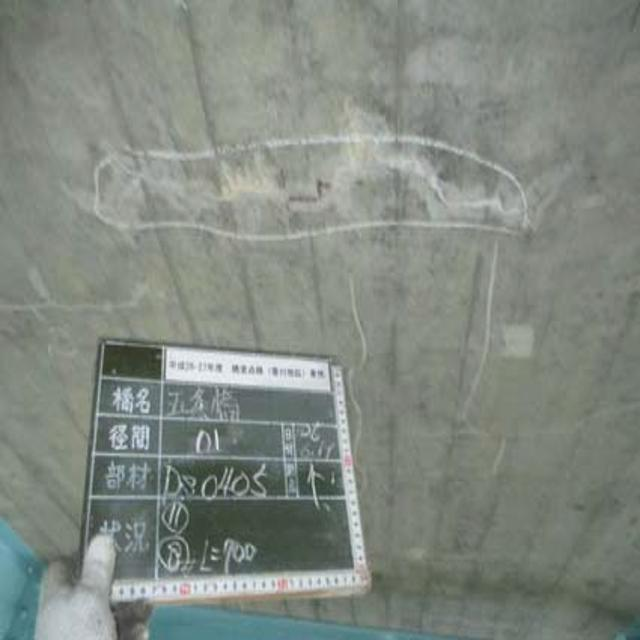freelime: (111, 138, 522, 242)
